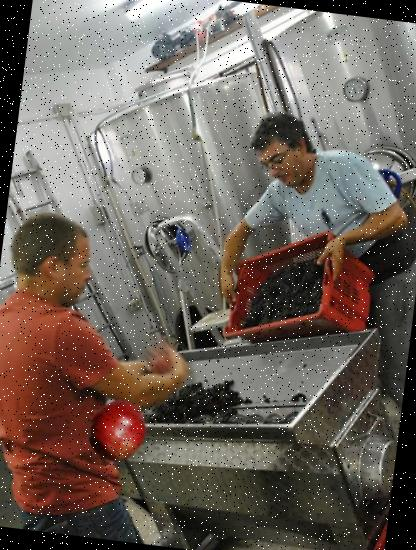Pomegranate: (80, 396, 151, 467)
